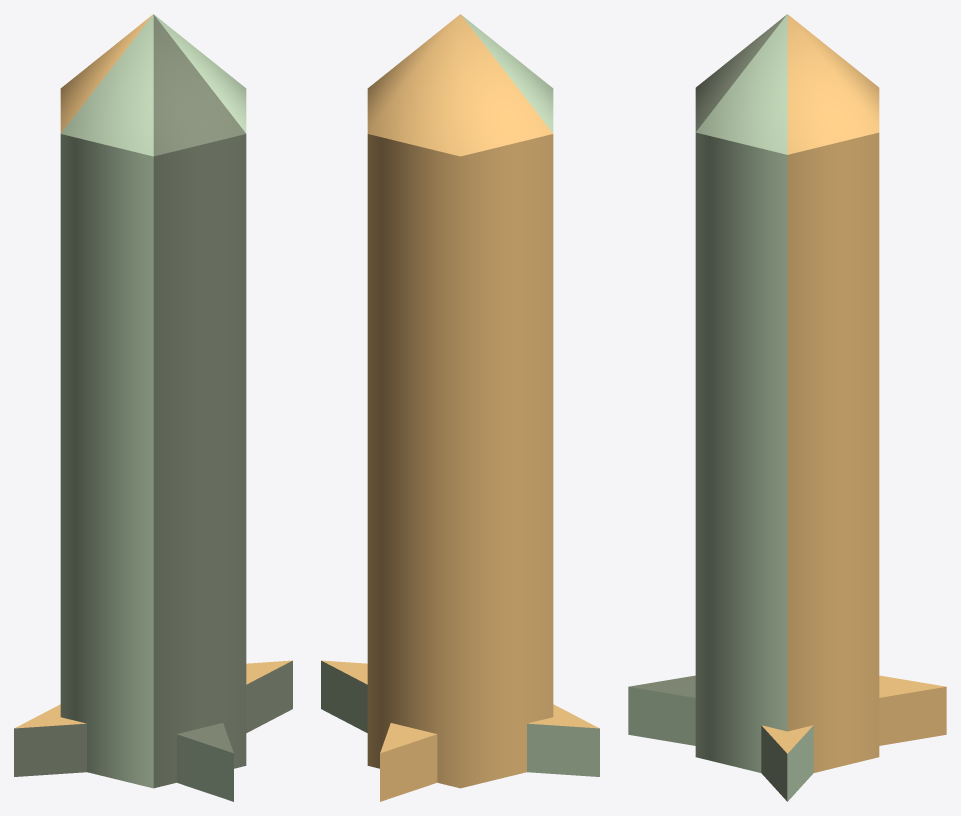
Rendered from Solo.MissileMesh.JadeSun.glb.
The picture shows the model from 3 angles, left to right: view 1: azimuth 30°, elevation 25°; view 2: azimuth 150°, elevation 25°; view 3: azimuth 270°, elevation 25°; orthographic projection.
Visible parts, largest first — view 1: Solo.MissileMesh.JadeSun; view 2: Solo.MissileMesh.JadeSun; view 3: Solo.MissileMesh.JadeSun.
Part boxes in pixels (<box>): Solo.MissileMesh.JadeSun: <box>14,14,292,801</box>; Solo.MissileMesh.JadeSun: <box>321,14,599,801</box>; Solo.MissileMesh.JadeSun: <box>628,14,946,801</box>.
Bounding box in the file's own units: 0.6 × 1.5 × 0.6.
Materials: 1 (1 with a texture image).
